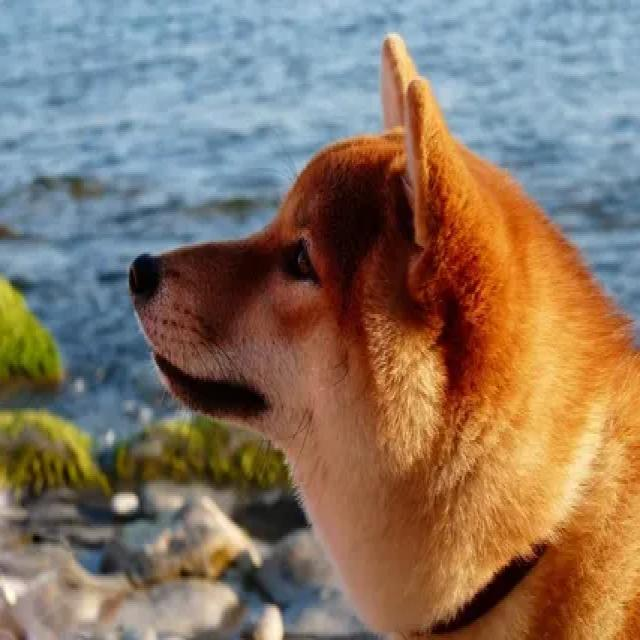Dog: (118, 31, 553, 506)
